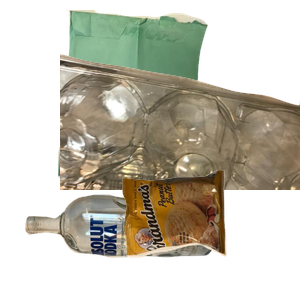glass: (22, 192, 234, 300)
paper: (55, 10, 255, 190)
plastic: (60, 52, 300, 232)
trash: (120, 168, 300, 300)
